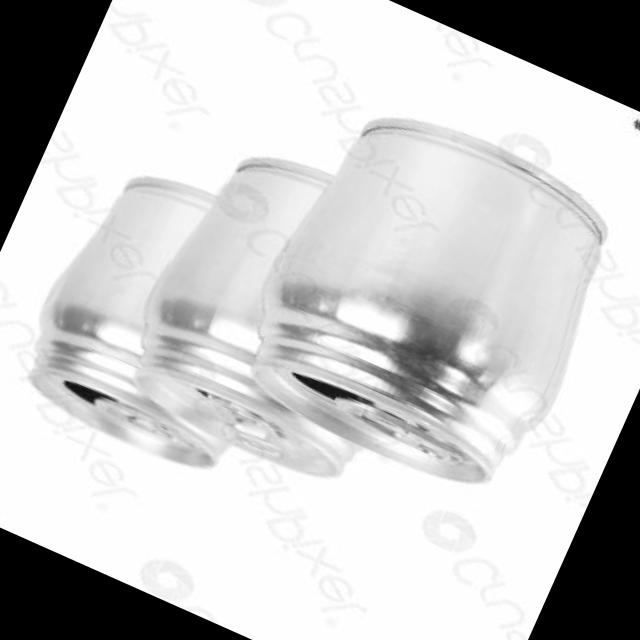Kaleng: (214, 83, 638, 514), (102, 126, 456, 496), (2, 150, 319, 486)
